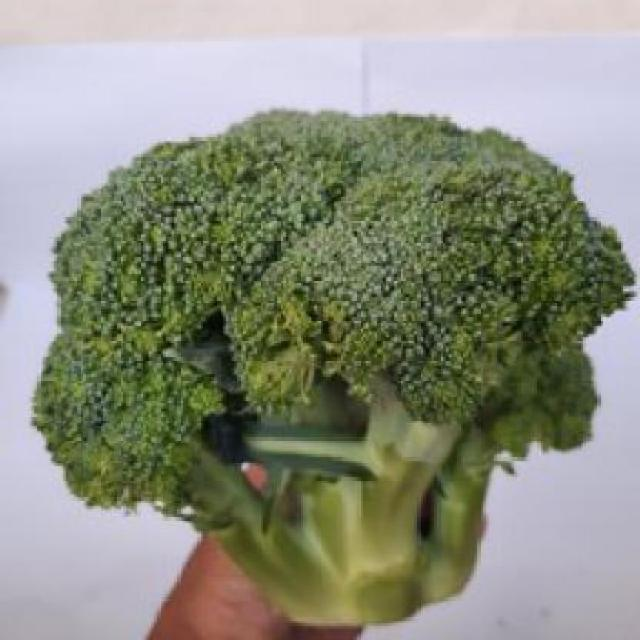broccoli: (43, 142, 612, 608)
